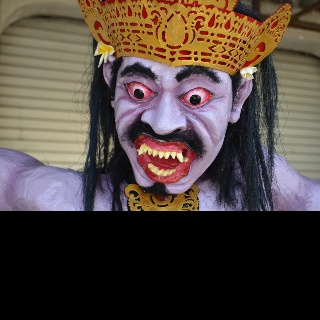without_mask: (113, 56, 233, 195)
